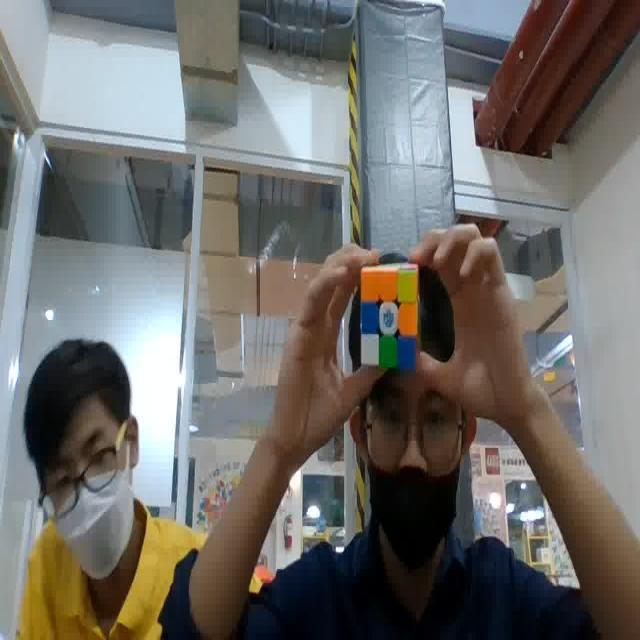Rub: (356, 256, 424, 372)
